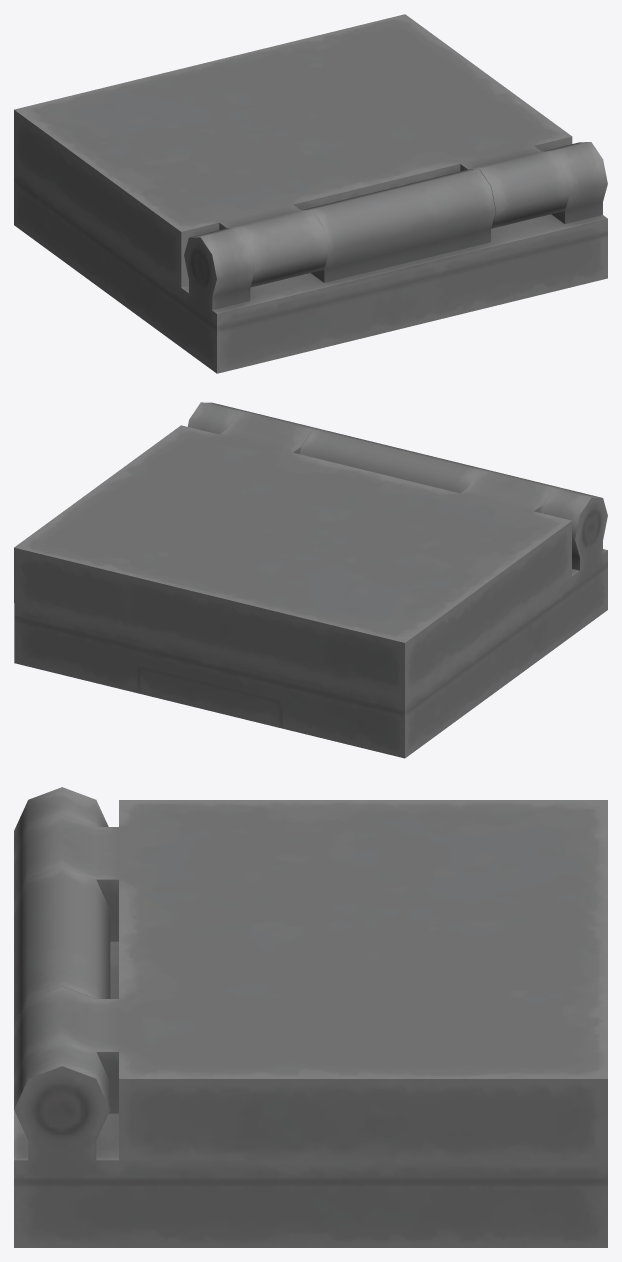
The model's file is Pfb_Computer__4.fbx.
3 renders of one model, top to bottom at view 1: azimuth 30°, elevation 25°; view 2: azimuth 150°, elevation 25°; view 3: azimuth 270°, elevation 25°, orthographic. The views are drawn at different scales.
Visible parts, largest first — view 1: Mat_Computer_01_01; view 2: Mat_Computer_01_01; view 3: Mat_Computer_01_01.
Boxes of the visible parts, x1,y1,x2,y2 form: Mat_Computer_01_01: [14, 14, 607, 373]; Mat_Computer_01_01: [14, 402, 607, 758]; Mat_Computer_01_01: [14, 787, 607, 1247].
Bounding box in the file's own units: 0.4671 × 0.1418 × 0.42.
Materials: 1 (1 with a texture image).
